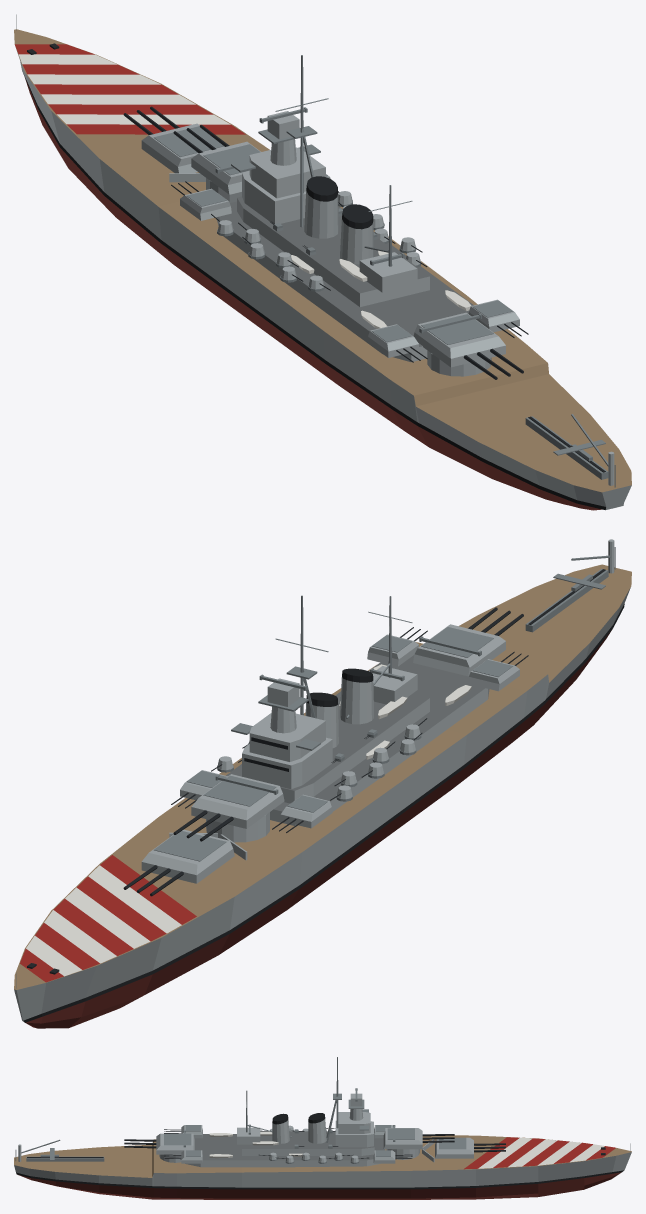
The model's file is littorio.glb.
3 renders of one model, top to bottom at view 1: azimuth 30°, elevation 25°; view 2: azimuth 150°, elevation 25°; view 3: azimuth 270°, elevation 25°, orthographic. The views are drawn at different scales.
Parts seen in each view (by area): view 1: Hull, Deckhouse, Stripes, Stripes.001, Upper deck, Tower 2, 381 III house, Tower 1, Aft control, Fore funnel, 381 I house, 381 II house (+10 smaller); view 2: Hull, Stripes, Deckhouse, Stripes.001, Upper deck, Tower 1, Tower 2, 381 II house, 381 I house, 381 III house, Aft funnel, 381 I roof (+10 smaller); view 3: Hull, Deckhouse, Upper deck, Stripes, Stripes.001, Tower 1, Tower 2, 381 II house, 381 I house, 381 III house, Fore funnel, Aft control (+6 smaller).
Part boxes in pixels (x1,y1,x2,y2): Hull: (14, 29, 631, 510); Deckhouse: (216, 201, 473, 362); Stripes: (15, 44, 245, 134); Stripes.001: (18, 54, 230, 124); Upper deck: (237, 196, 429, 306); Tower 2: (249, 147, 325, 198); 381 III house: (413, 312, 505, 367); Tower 1: (242, 171, 306, 224); Aft control: (359, 252, 417, 292); Fore funnel: (304, 191, 338, 238); 381 I house: (141, 123, 224, 173); 381 II house: (191, 141, 260, 194); Hull: (14, 564, 631, 1028); Stripes: (20, 855, 196, 982); Deckhouse: (226, 655, 489, 825); Stripes.001: (26, 865, 181, 976); Upper deck: (238, 693, 429, 803); Tower 1: (242, 737, 332, 789); Tower 2: (249, 713, 325, 761); 381 II house: (191, 774, 284, 828); 381 I house: (141, 829, 234, 883); 381 III house: (413, 624, 505, 676); Aft funnel: (340, 677, 373, 724); 381 I roof: (154, 831, 226, 861); Hull: (14, 1135, 631, 1199); Deckhouse: (185, 1134, 384, 1167); Upper deck: (242, 1131, 374, 1155); Stripes: (464, 1137, 615, 1169); Stripes.001: (478, 1137, 604, 1168); Tower 1: (335, 1120, 373, 1147); Tower 2: (338, 1112, 370, 1133); 381 II house: (383, 1128, 422, 1149); 381 I house: (435, 1137, 473, 1158); 381 III house: (156, 1133, 194, 1154); Fore funnel: (308, 1119, 326, 1143); Aft control: (237, 1127, 260, 1144).
Bounding box in the file's own units: 32.8 × 58.4 × 238.
